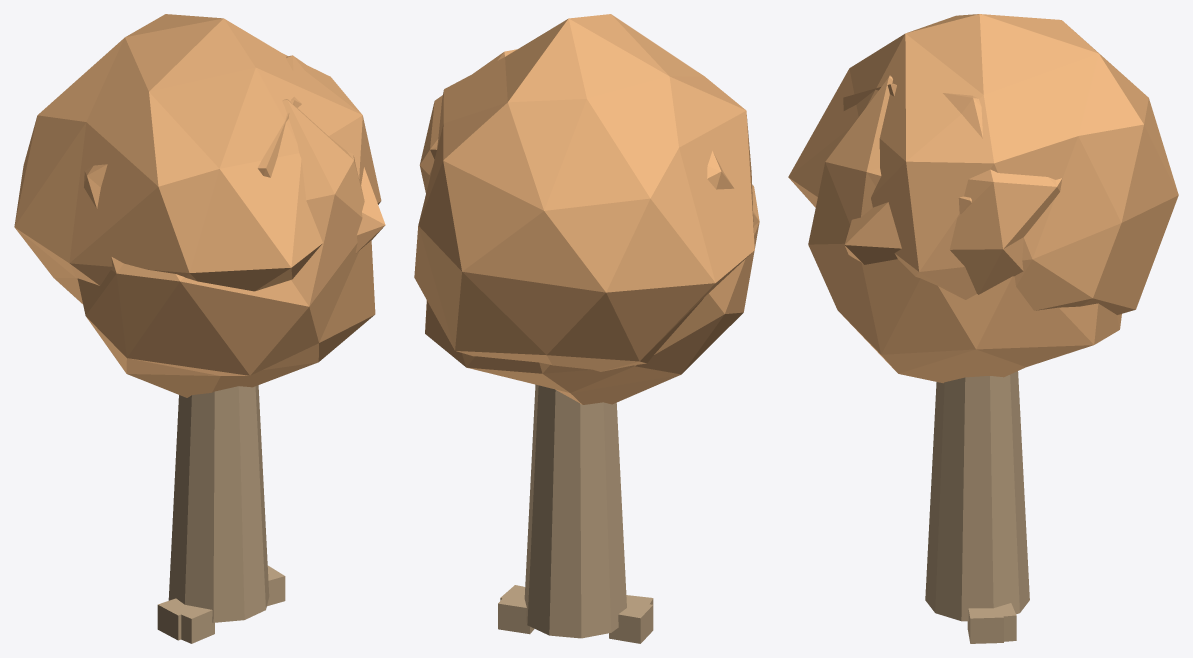
File: chibi_tree_autumn.glb
3 views of the same model, side by side, from view 1: azimuth 30°, elevation 25°; view 2: azimuth 150°, elevation 25°; view 3: azimuth 270°, elevation 25° (orthographic). The views are drawn at different scales.
Parts seen in each view (by area): view 1: ChibiTree_autumn_5; view 2: ChibiTree_autumn_5; view 3: ChibiTree_autumn_5.
Part boxes in pixels (bbox=[...]): ChibiTree_autumn_5: bbox=[14, 14, 385, 643]; ChibiTree_autumn_5: bbox=[414, 14, 759, 643]; ChibiTree_autumn_5: bbox=[788, 14, 1178, 643].
Size of the model in its own units: 1.94 by 3.55 by 2.09.
